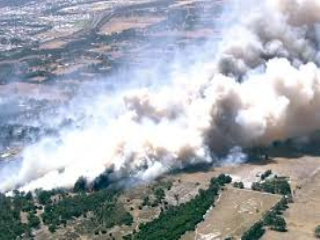smoke: (3, 39, 320, 183)
